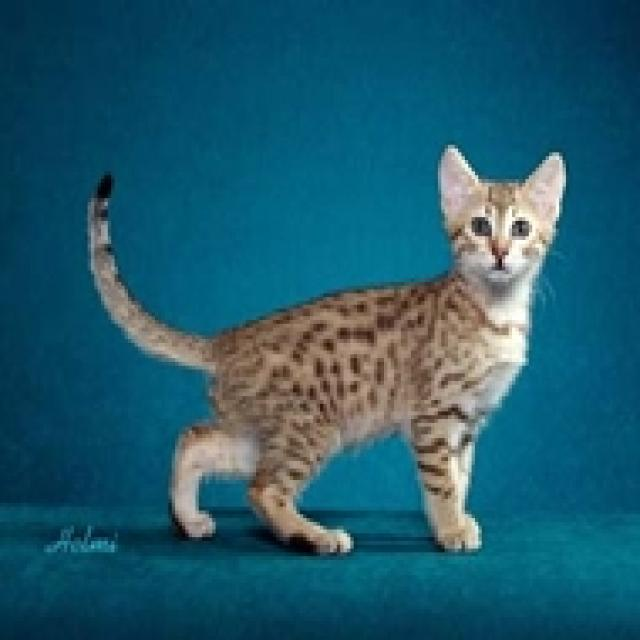Egyptian_Mau: (435, 141, 563, 282)
